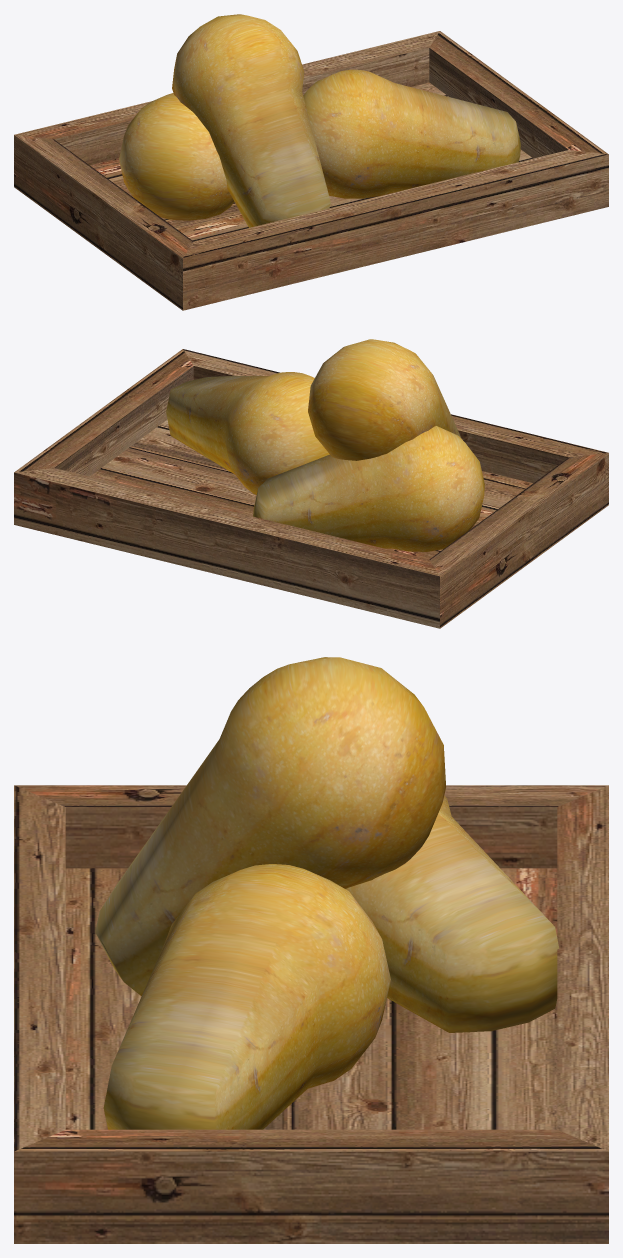
File: fruit_veg1.fbx
The picture shows the model from 3 angles, top to bottom: view 1: azimuth 30°, elevation 25°; view 2: azimuth 150°, elevation 25°; view 3: azimuth 270°, elevation 25°; orthographic projection. The views are drawn at different scales.
Parts seen in each view (by area): view 1: fruit_veg1; view 2: fruit_veg1; view 3: fruit_veg1.
Part boxes in pixels (x1,y1,x2,y2): fruit_veg1: [14, 14, 608, 310]; fruit_veg1: [14, 339, 608, 628]; fruit_veg1: [14, 657, 608, 1243].
Bounding box in the file's own units: 28.34 × 12.04 × 19.45.
